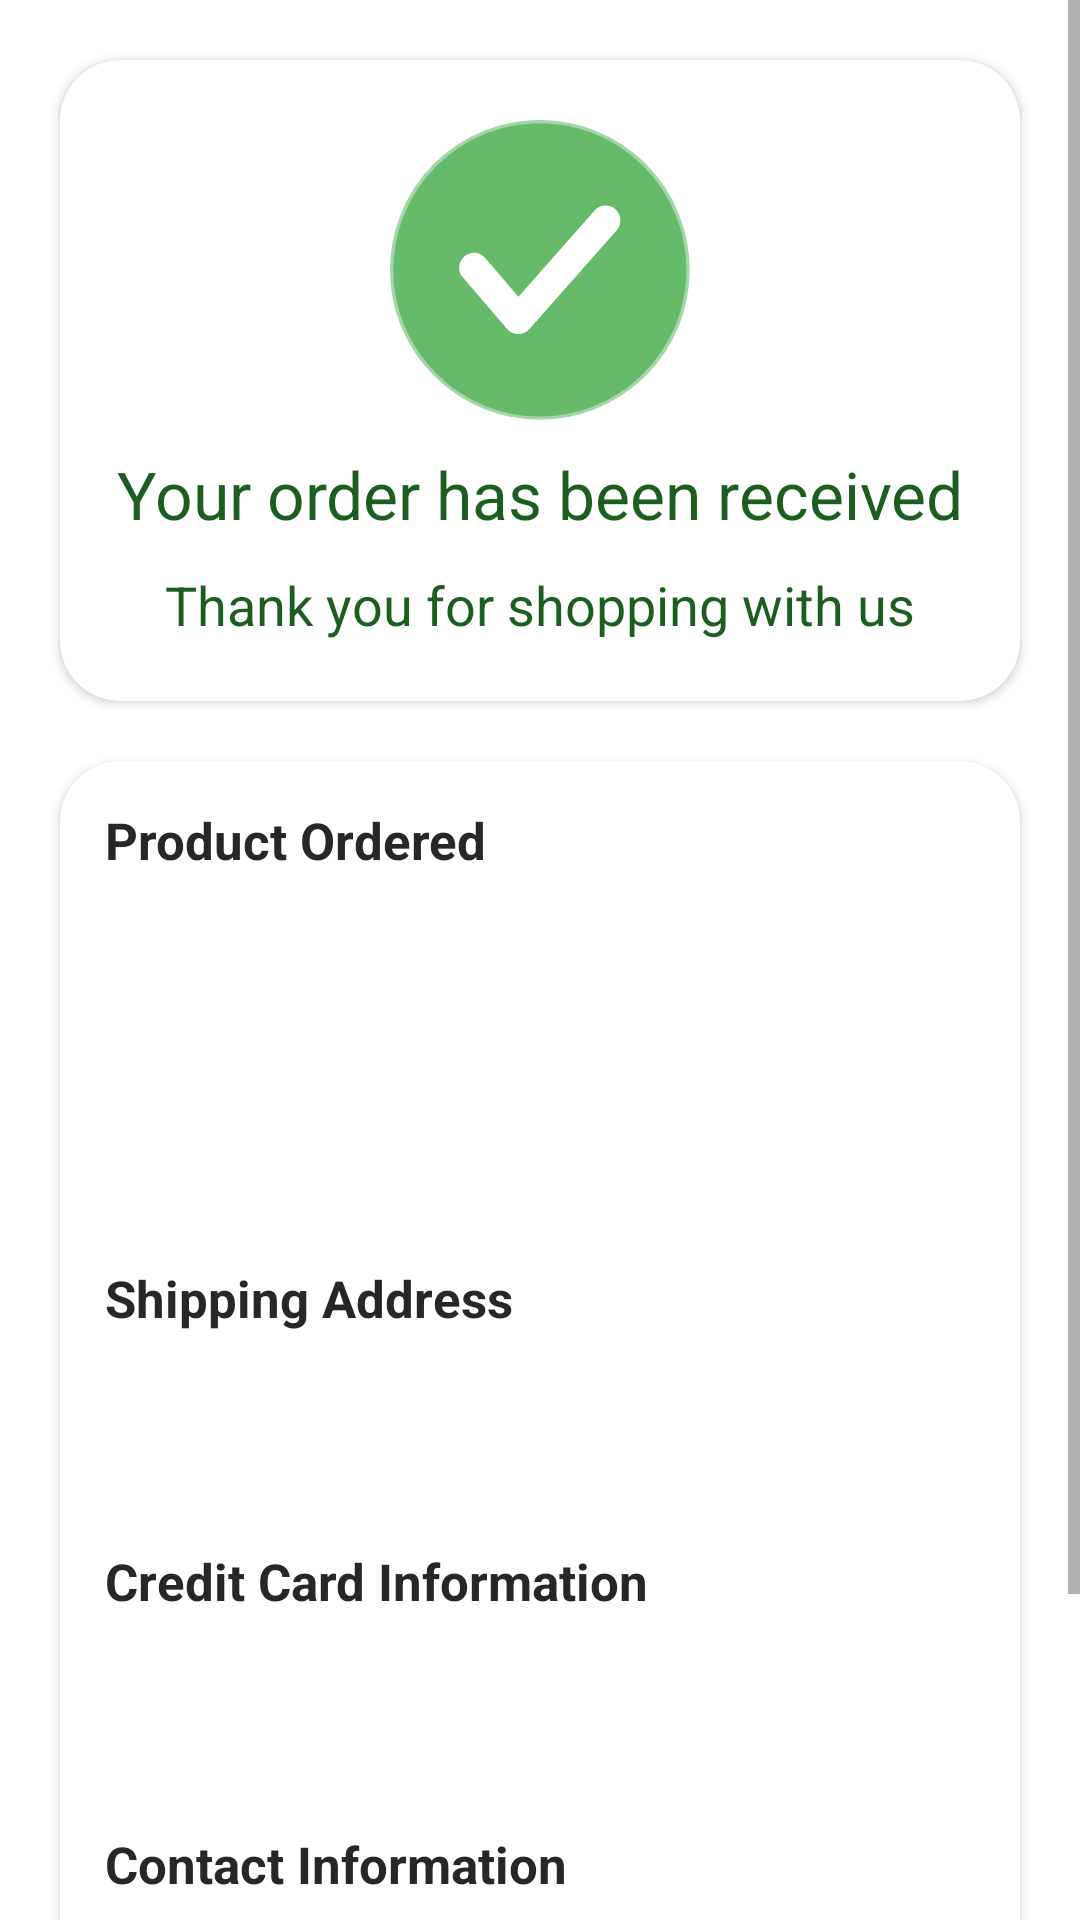

Screen size 1080 x 1920. Icon name, then its box in pixels as (x1, y1, x2, y2):
submit: (390, 120, 690, 420)
